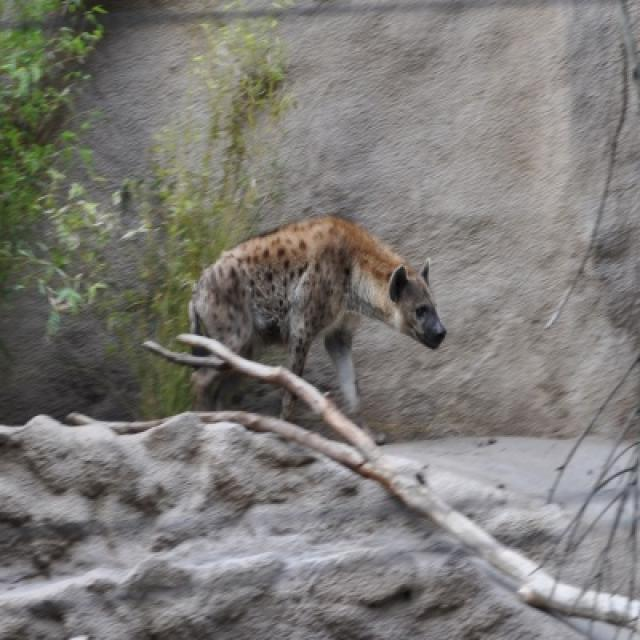hyena: (189, 216, 446, 422)
